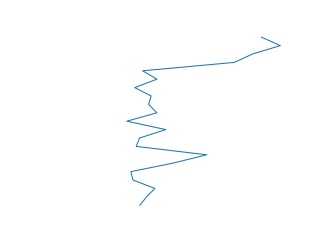crevasseRiverChannelBar: (124, 35, 285, 211)
